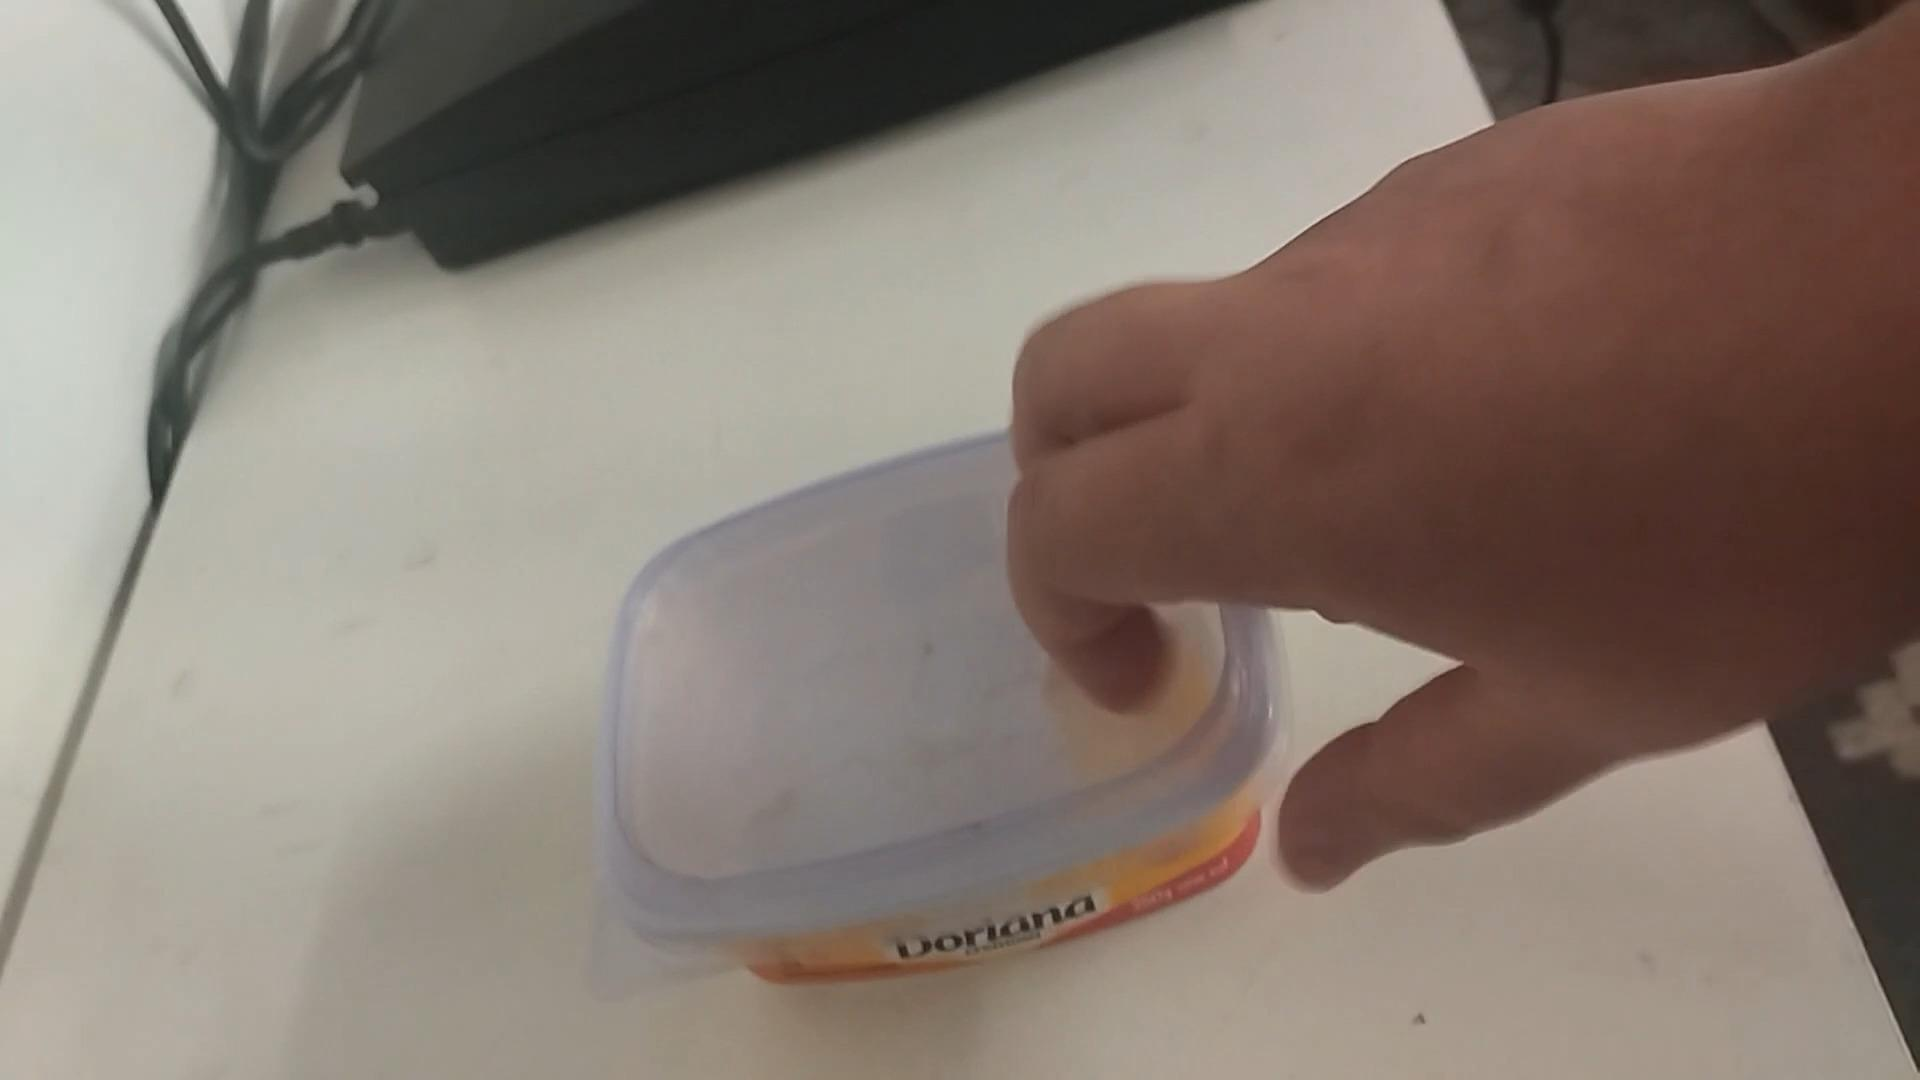butter: (586, 425, 1289, 989)
